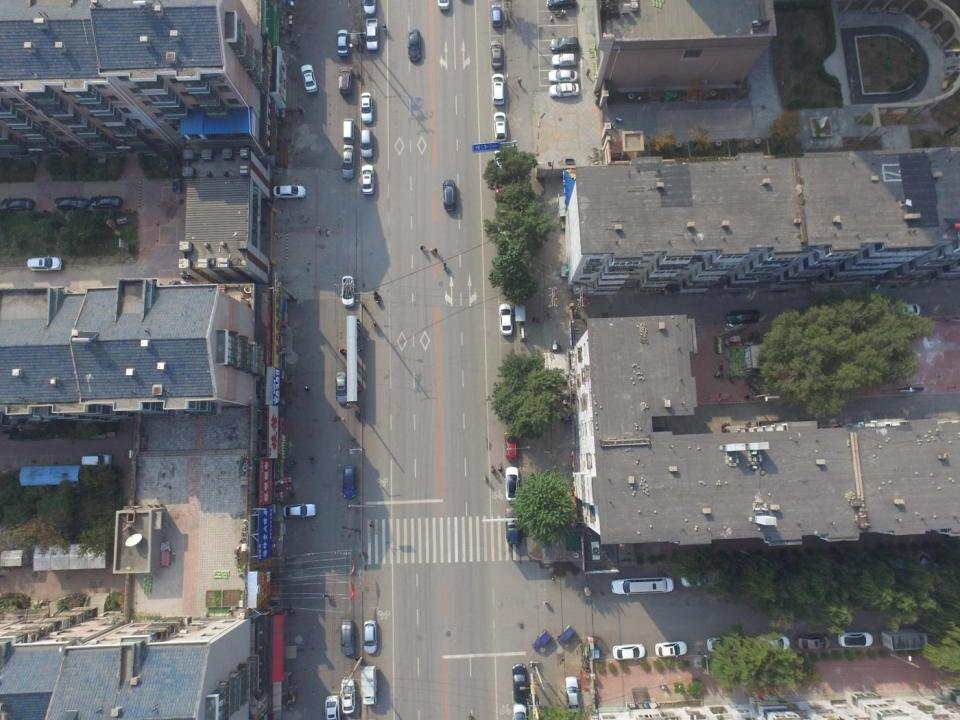car: (878, 628, 936, 651), (680, 569, 722, 587), (504, 507, 523, 545), (706, 636, 746, 654), (795, 633, 831, 652), (837, 631, 873, 649), (564, 676, 580, 716), (512, 663, 528, 703), (27, 255, 62, 273), (340, 677, 357, 714), (754, 635, 790, 652), (654, 640, 688, 658), (612, 643, 646, 661), (340, 619, 356, 656), (504, 466, 520, 503), (0, 196, 34, 213), (362, 620, 378, 655), (282, 503, 317, 519), (54, 195, 89, 211), (300, 63, 318, 94), (272, 184, 306, 200), (726, 309, 760, 325), (442, 179, 458, 212), (885, 303, 920, 318), (498, 303, 514, 335), (548, 82, 580, 98), (342, 465, 357, 499), (89, 194, 123, 209), (341, 144, 355, 180), (340, 275, 356, 306), (81, 452, 112, 468), (407, 29, 422, 62), (359, 92, 374, 124), (550, 36, 580, 52), (335, 371, 349, 405), (504, 431, 519, 462), (360, 164, 375, 195), (548, 67, 577, 83), (365, 18, 378, 53), (360, 129, 375, 159), (338, 65, 353, 95), (493, 112, 507, 142), (336, 29, 351, 57), (324, 694, 340, 720), (551, 52, 577, 68), (490, 40, 503, 69), (490, 3, 503, 29), (546, 0, 576, 9), (362, 0, 377, 17)
truck: (361, 665, 377, 706)
van: (610, 576, 674, 595), (491, 74, 506, 106), (342, 118, 356, 143)
